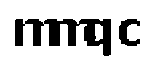c: (119, 17, 143, 48)
m: (12, 16, 54, 49), (55, 17, 91, 49)
q: (82, 16, 116, 60)
